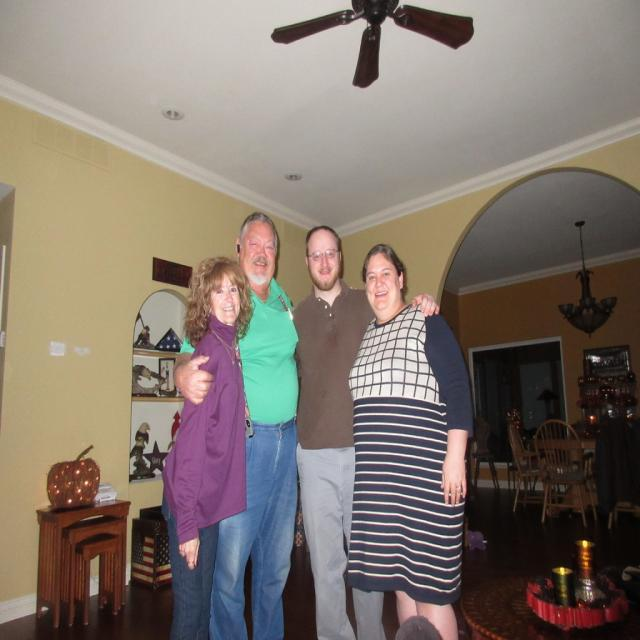fan_off: (266, 0, 478, 96)
